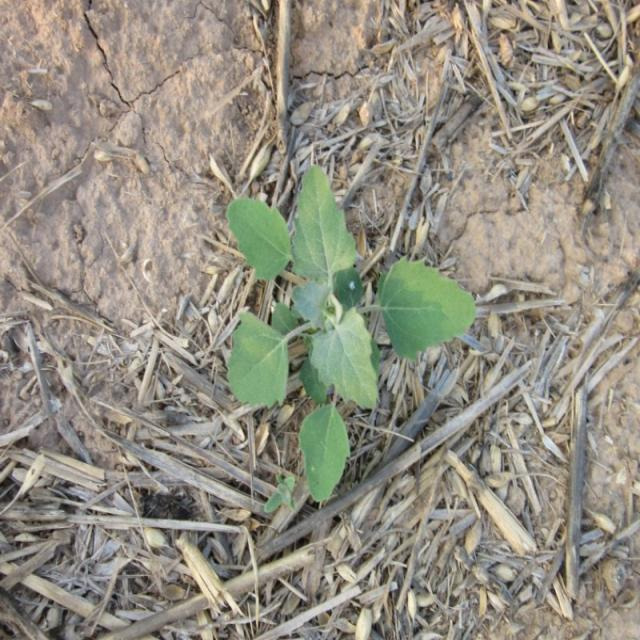ca: (224, 170, 477, 500)
